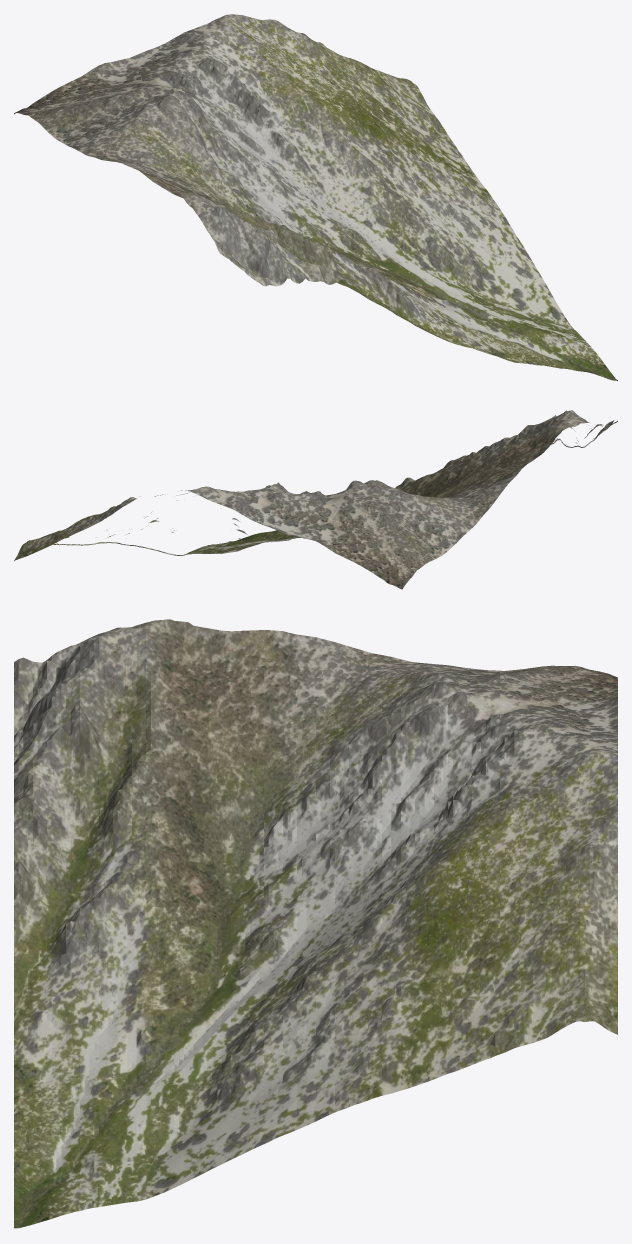
The picture shows the model from 3 angles, top to bottom: view 1: azimuth 30°, elevation 25°; view 2: azimuth 150°, elevation 25°; view 3: azimuth 270°, elevation 25°; orthographic projection. The views are drawn at different scales.
Size of the model in its own units: 1000 by 621 by 963.
1 material, 1 textured.
